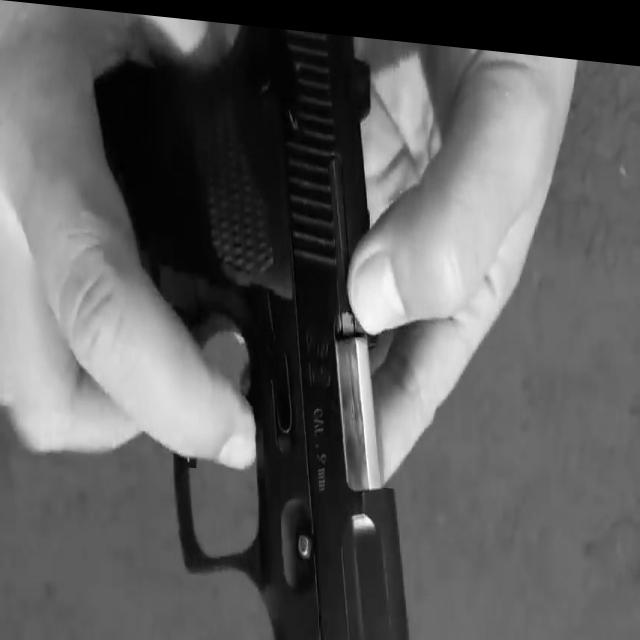handgun: (94, 14, 422, 640)
